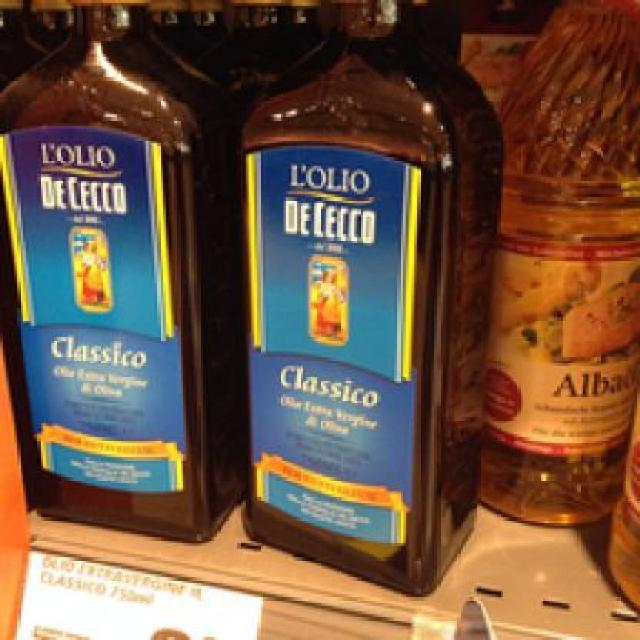Oil: (237, 2, 503, 595), (0, 0, 240, 540)
